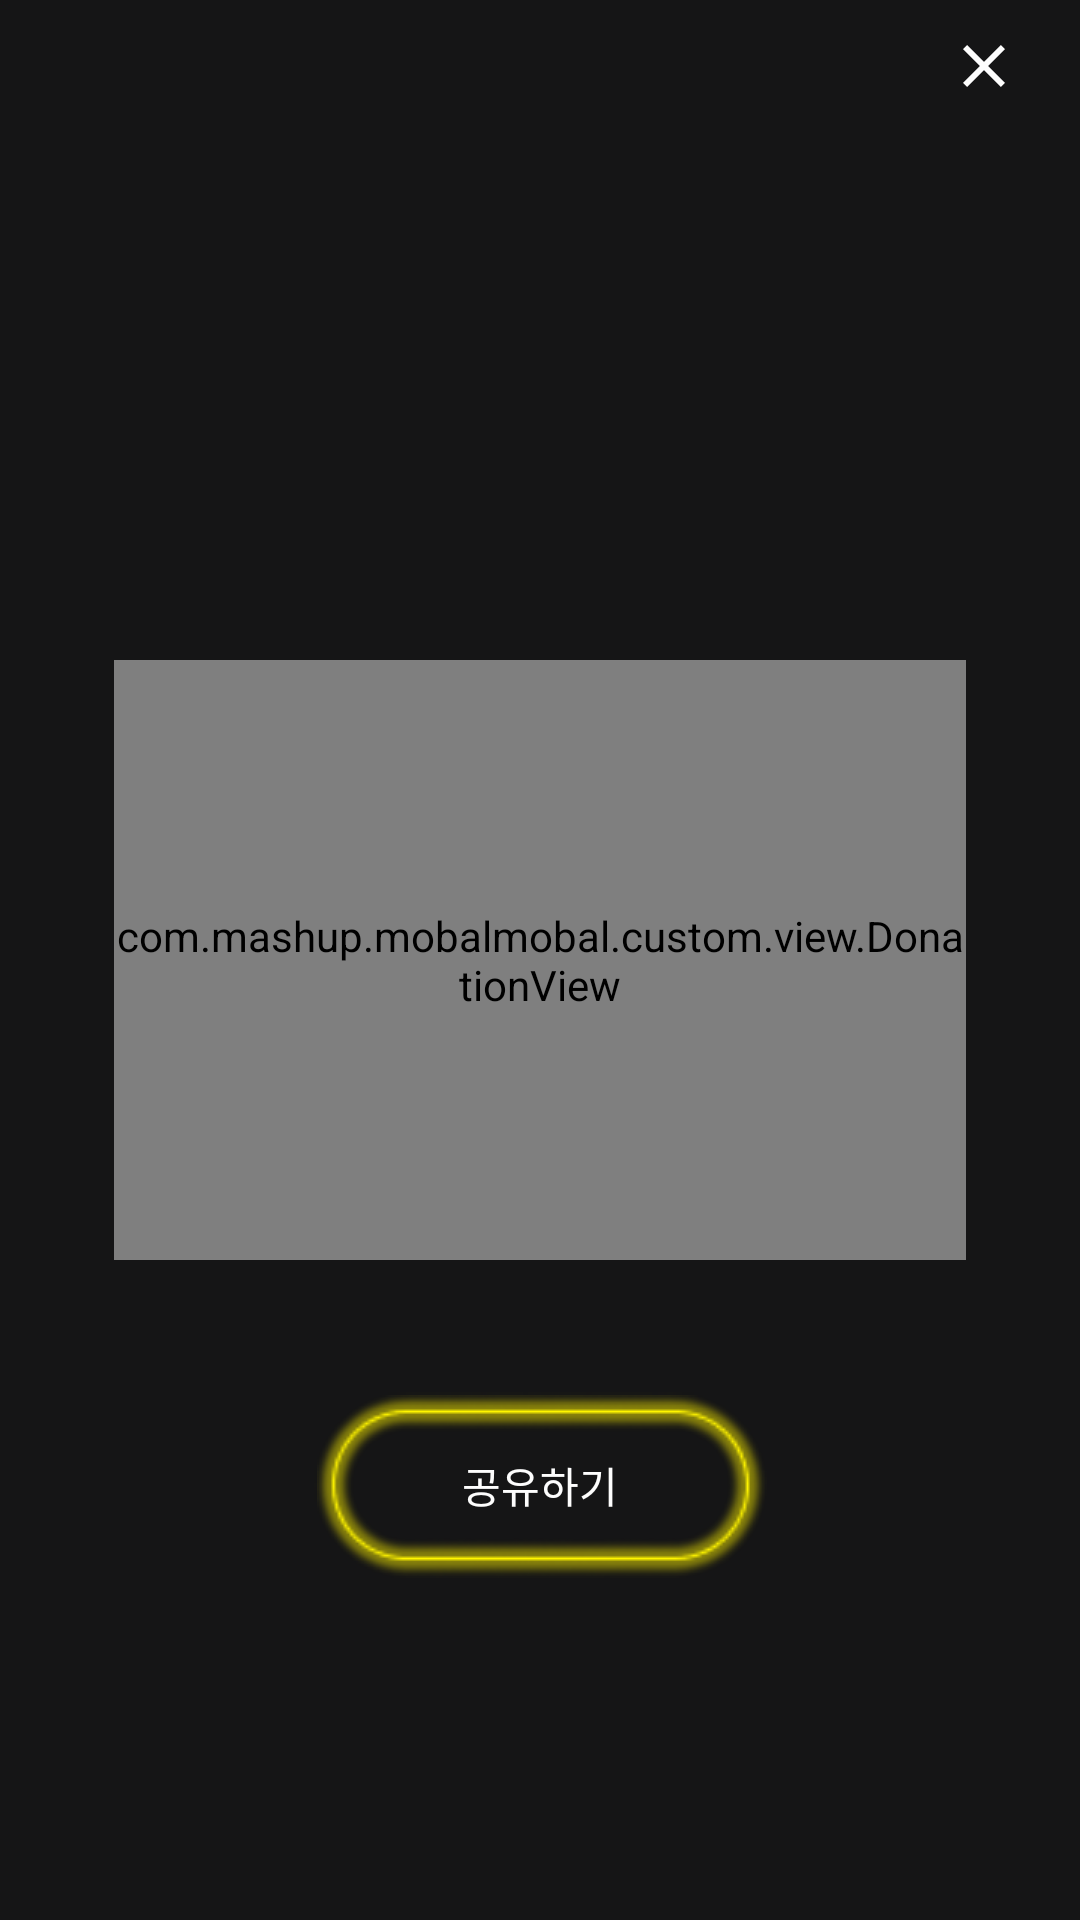

Point at icon controls on the screen. Image size 1080x1920, points as (x=x, y=y).
close: (x=984, y=66)
